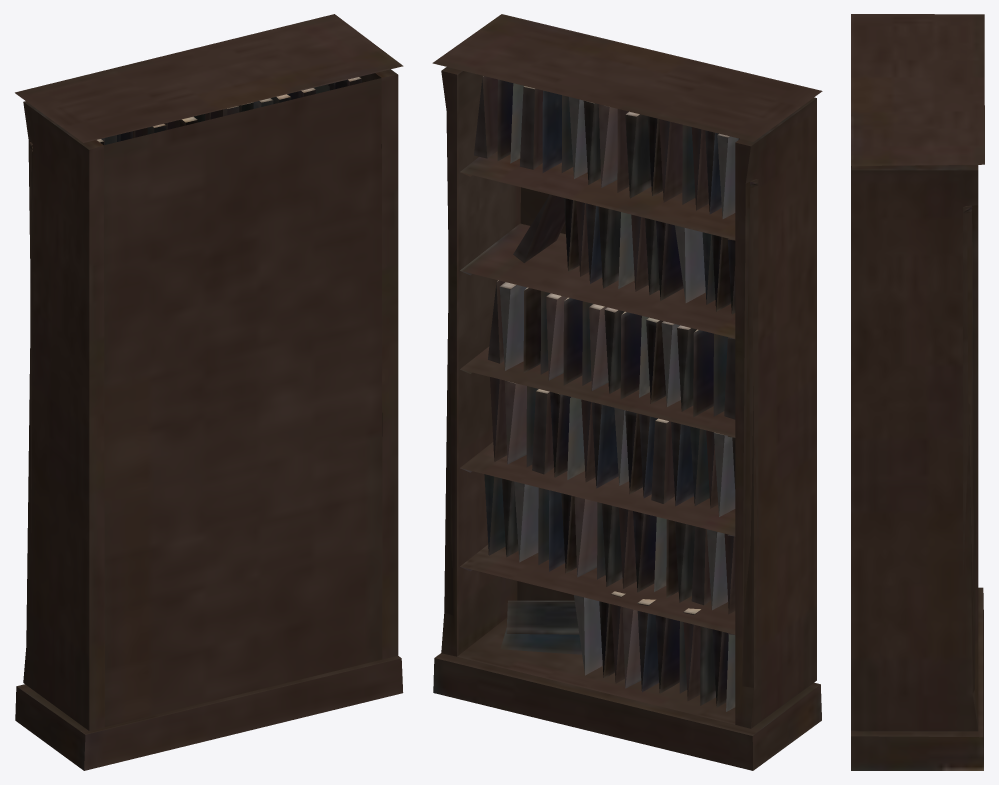
Rendered from bookcase-tall.lod1.glb.
3 views of the same model, side by side, from view 1: azimuth 30°, elevation 25°; view 2: azimuth 150°, elevation 25°; view 3: azimuth 270°, elevation 25° (orthographic). The views are drawn at different scales.
Visible parts, largest first — view 1: bookcase-tall; view 2: bookcase-tall; view 3: bookcase-tall.
Part boxes in pixels (x1,y1,x2,y2): bookcase-tall: (15,14,403,770); bookcase-tall: (432,14,822,770); bookcase-tall: (851,14,984,770).
Bounding box in the file's own units: 0.9543 × 1.79 × 0.3571.
Materials: 1 (1 with a texture image).
